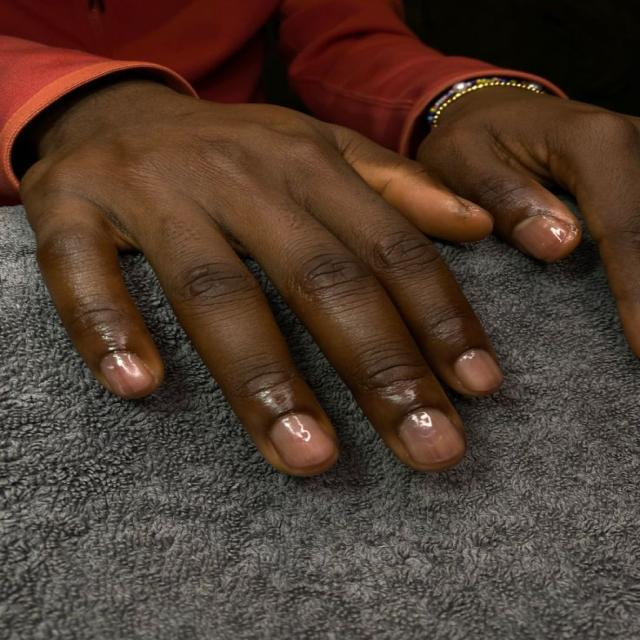Fingernail: (270, 413, 335, 470), (399, 407, 464, 464), (512, 215, 570, 260), (100, 351, 152, 395), (455, 349, 504, 392)
